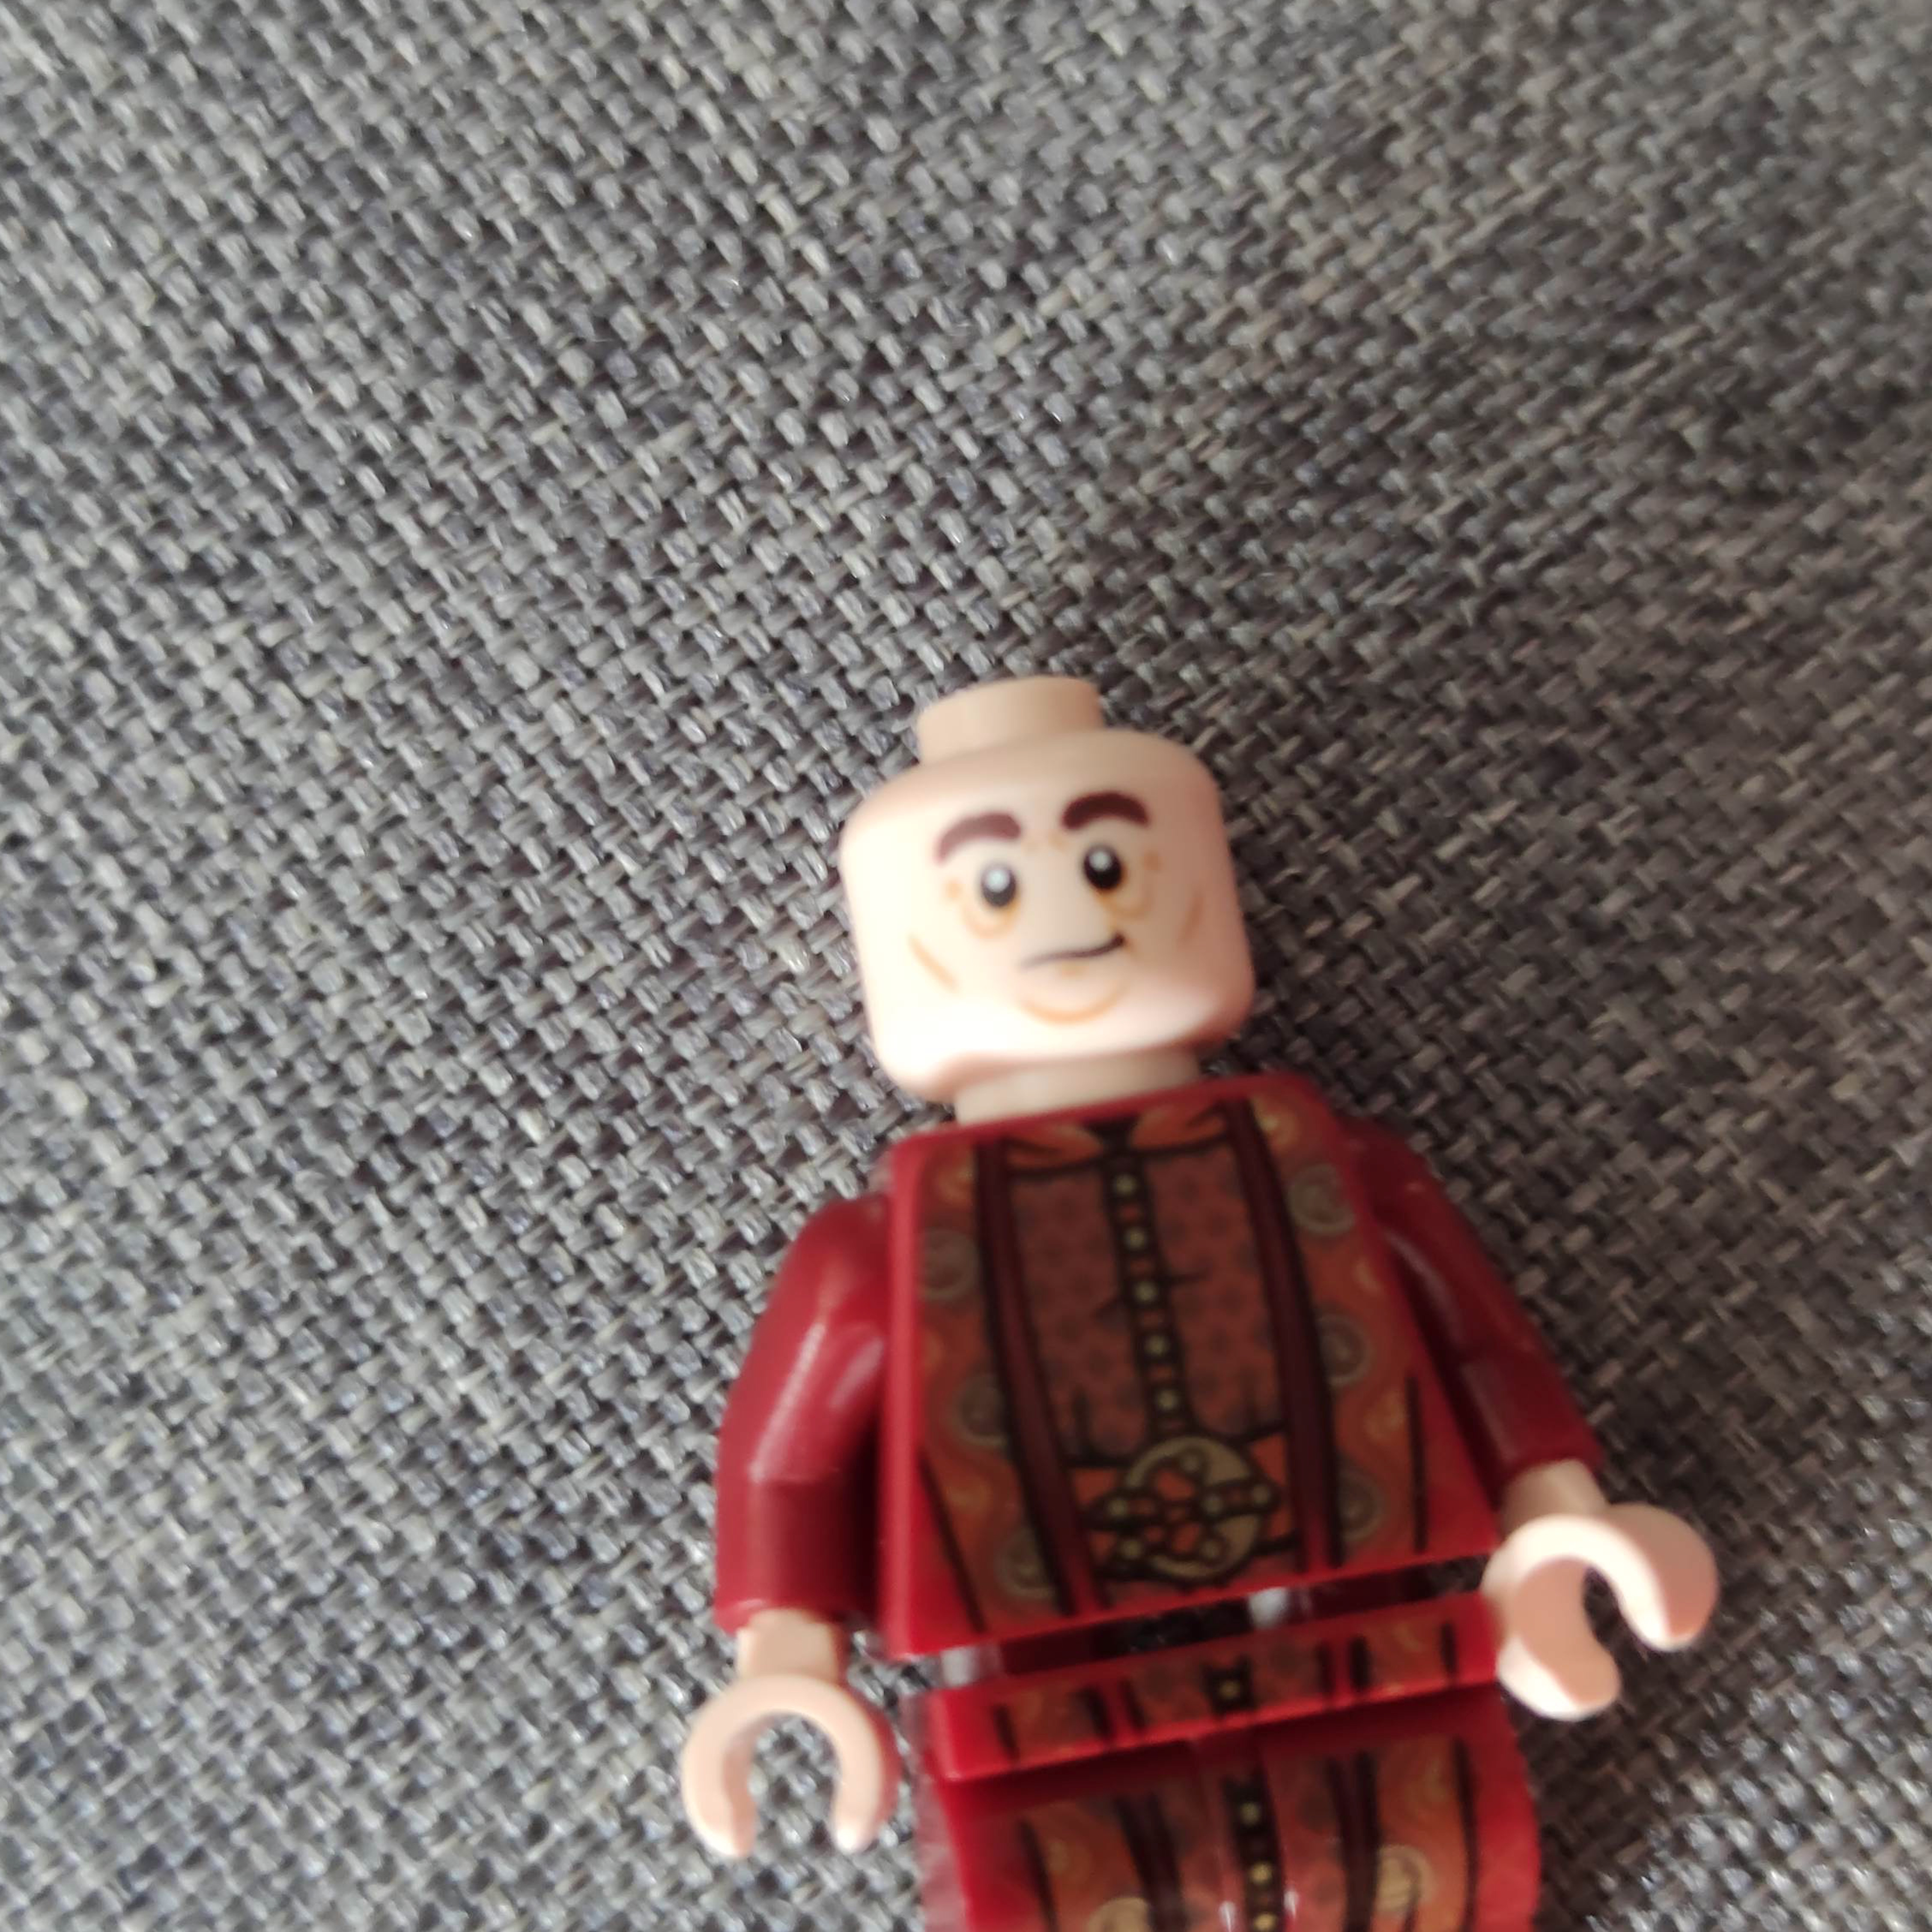lego: (678, 676, 1714, 1932)
